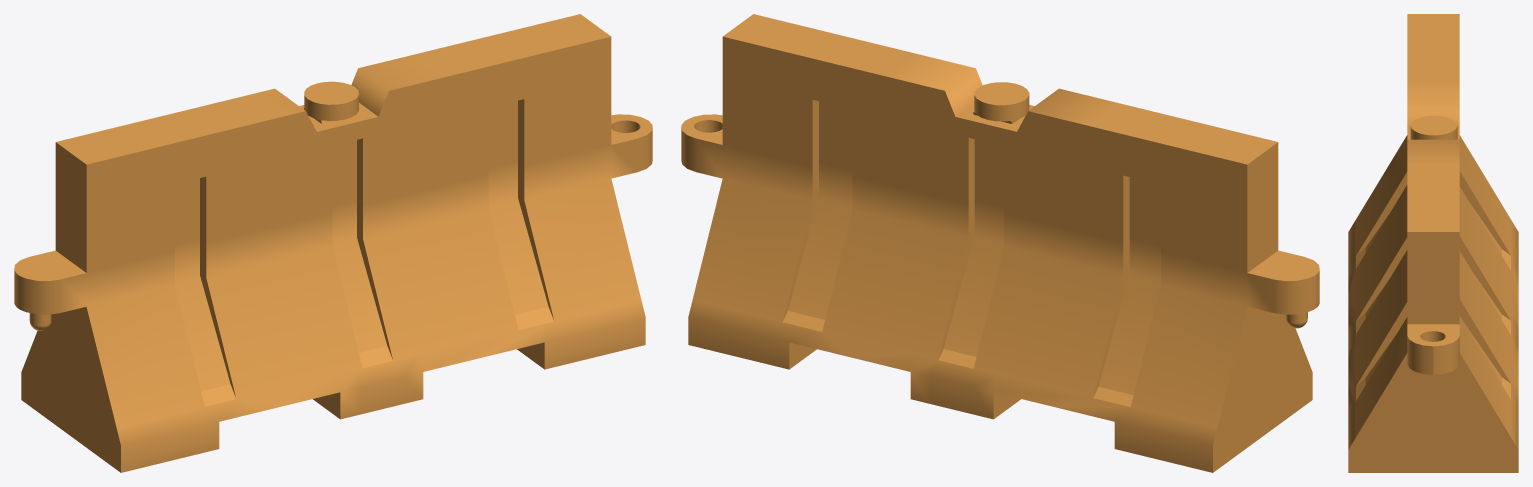
File: RoadBarrier.fbx
The picture shows the model from 3 angles, left to right: view 1: azimuth 30°, elevation 25°; view 2: azimuth 150°, elevation 25°; view 3: azimuth 270°, elevation 25°; orthographic projection. The views are drawn at different scales.
Parts seen in each view (by area): view 1: pSphere2; view 2: pSphere2; view 3: pSphere2.
Part boxes in pixels (x1,y1,x2,y2): pSphere2: (14,14,652,472); pSphere2: (681,14,1319,472); pSphere2: (1348,14,1518,472).
Bounding box in the file's own units: 359 × 154 × 98.5.
